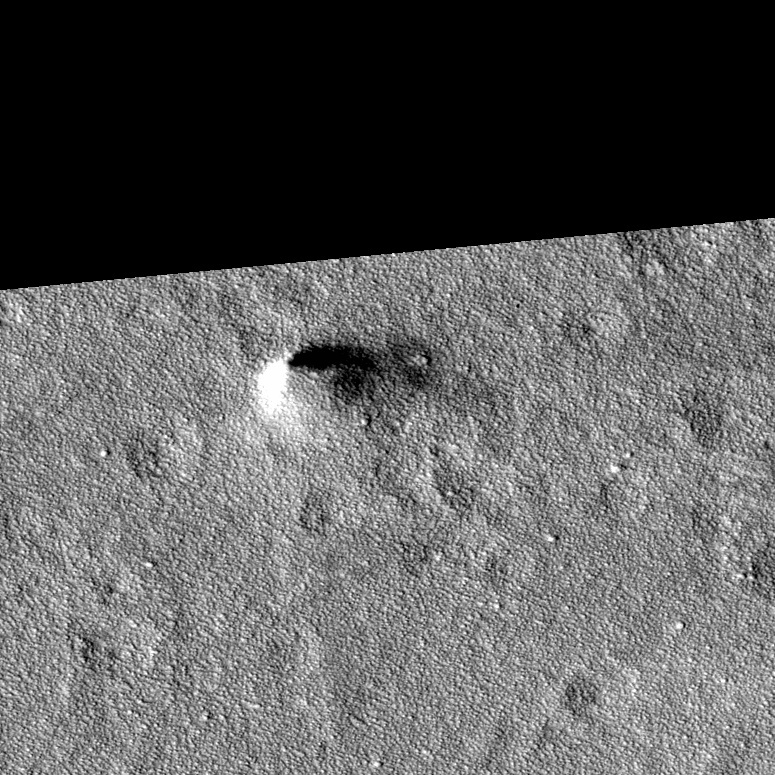dust_devil: (251, 334, 433, 426)
